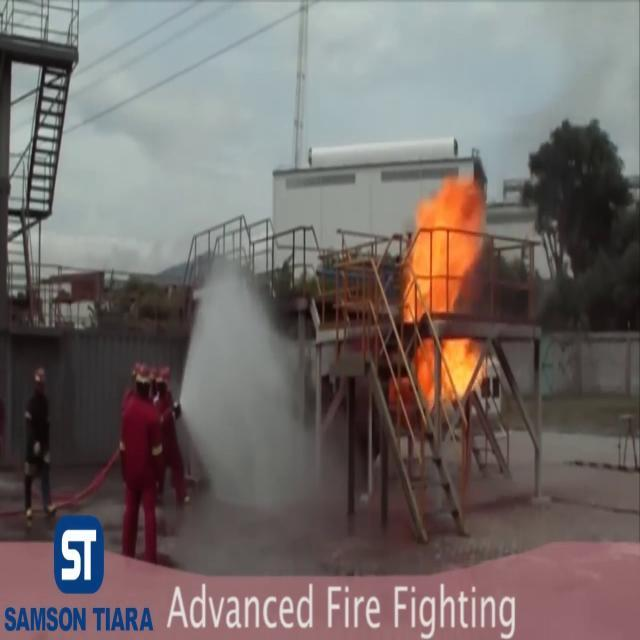Fire: (398, 171, 496, 416)
